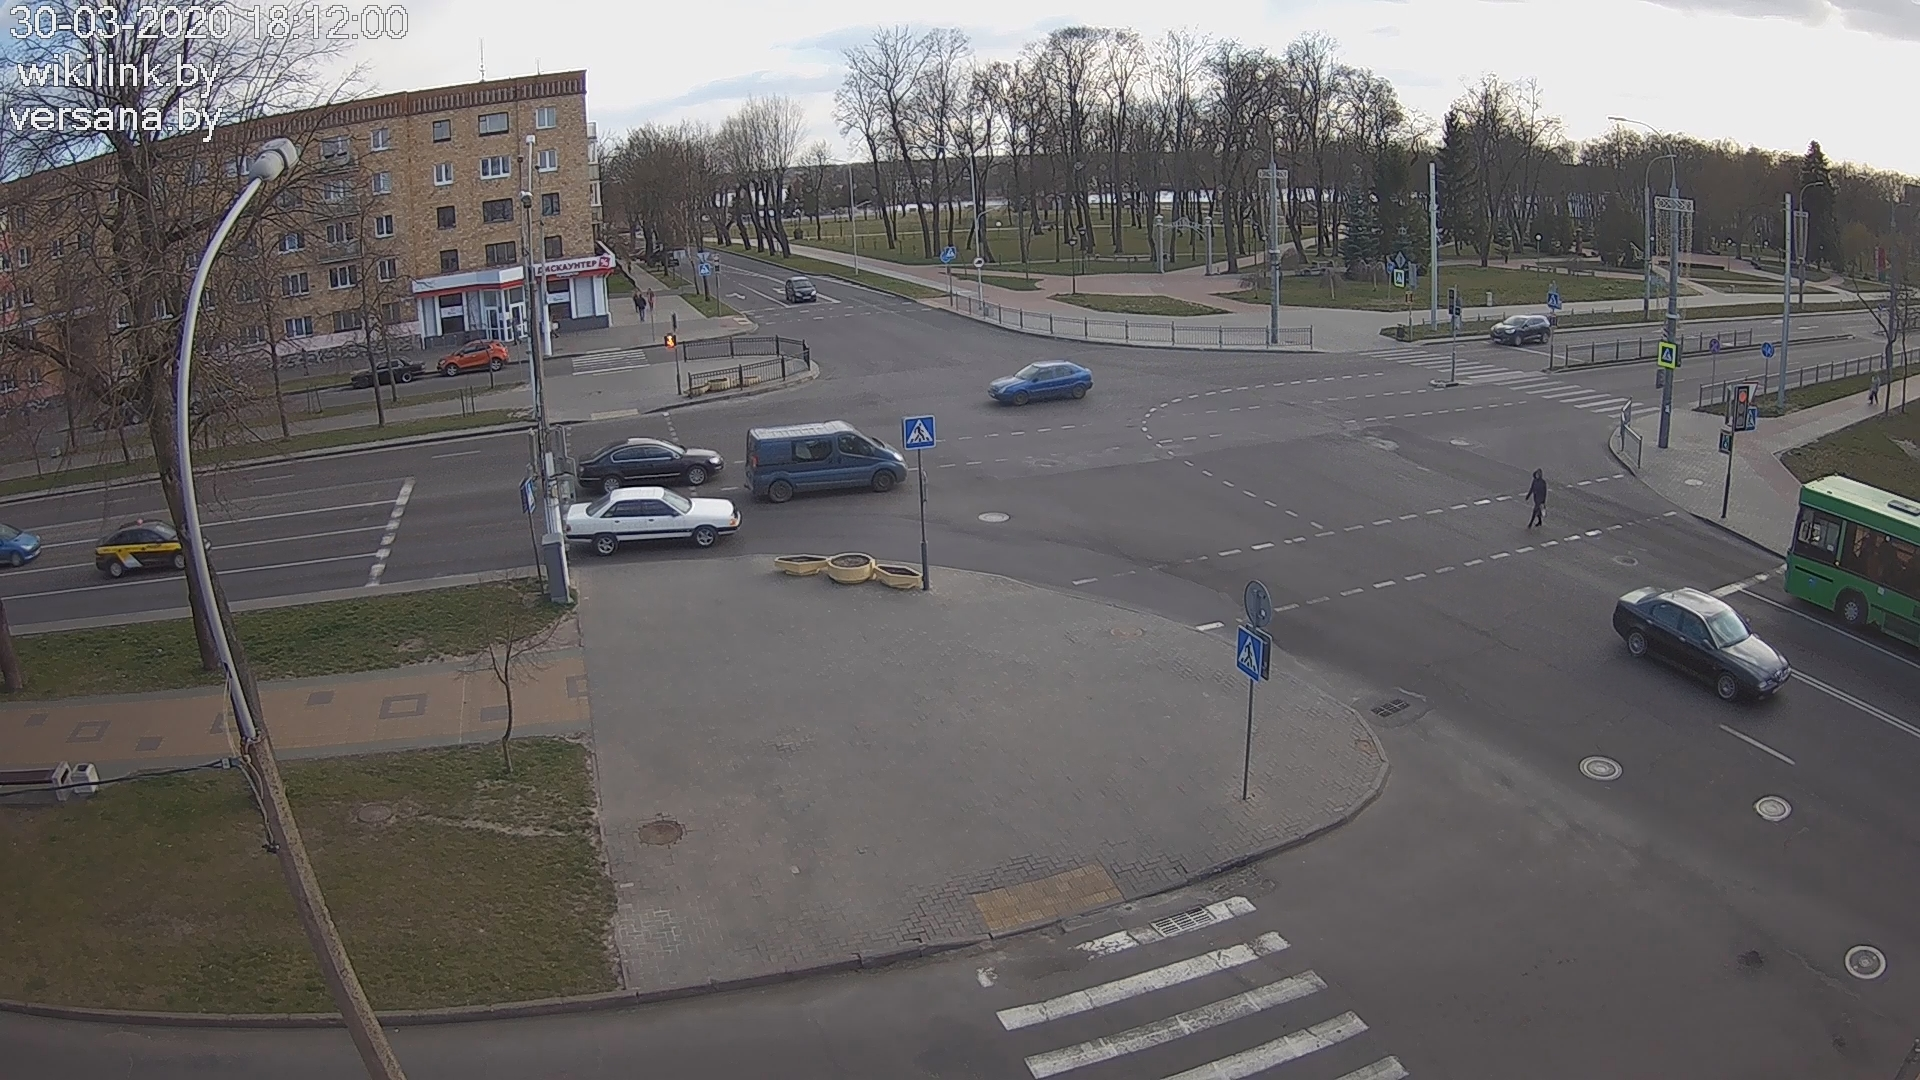car: (1613, 584, 1793, 703), (744, 419, 909, 504), (566, 487, 742, 556), (578, 436, 724, 492), (95, 518, 212, 578), (988, 360, 1093, 406), (436, 339, 509, 376), (351, 355, 426, 386), (1490, 314, 1551, 345), (785, 276, 818, 303)
